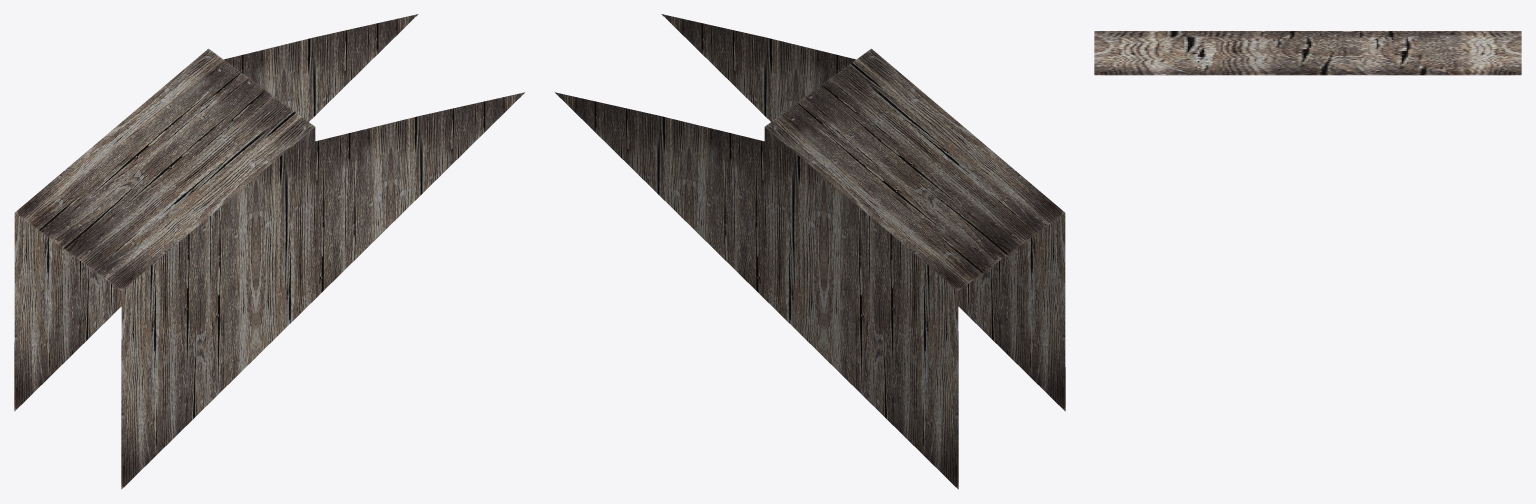
The picture shows the model from 3 angles, left to right: view 1: azimuth 30°, elevation 25°; view 2: azimuth 150°, elevation 25°; view 3: azimuth 270°, elevation 25°; orthographic projection. The views are drawn at different scales.
Parts seen in each view (by area): view 1: Box238; view 2: Box238; view 3: Box238.
Boxes of the visible parts, left/top/right/bottom form: Box238: left=14, top=14, right=524, bottom=489; Box238: left=555, top=14, right=1065, bottom=489; Box238: left=1094, top=31, right=1521, bottom=75.
Bounding box in the file's own units: 218 × 163 × 100.
